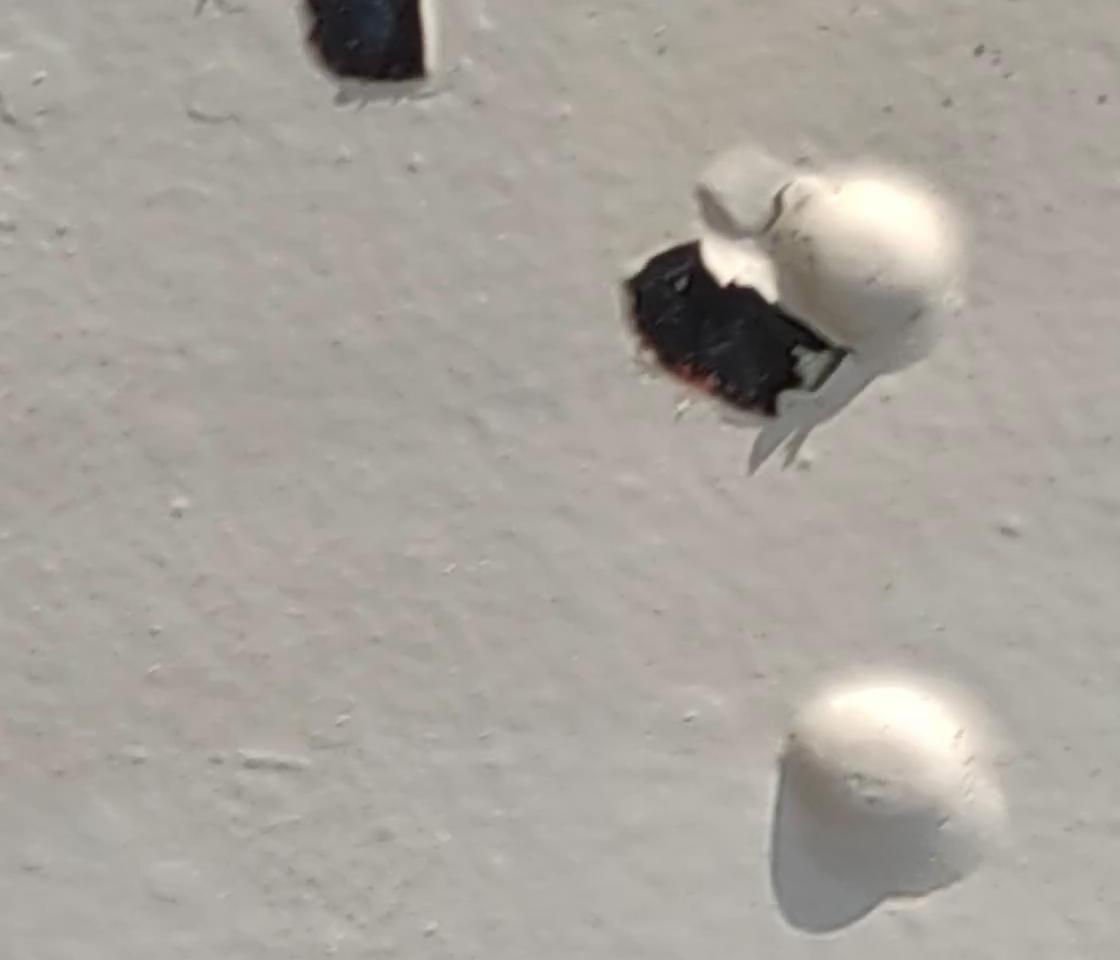rust: (617, 236, 828, 422), (306, 4, 431, 90)
